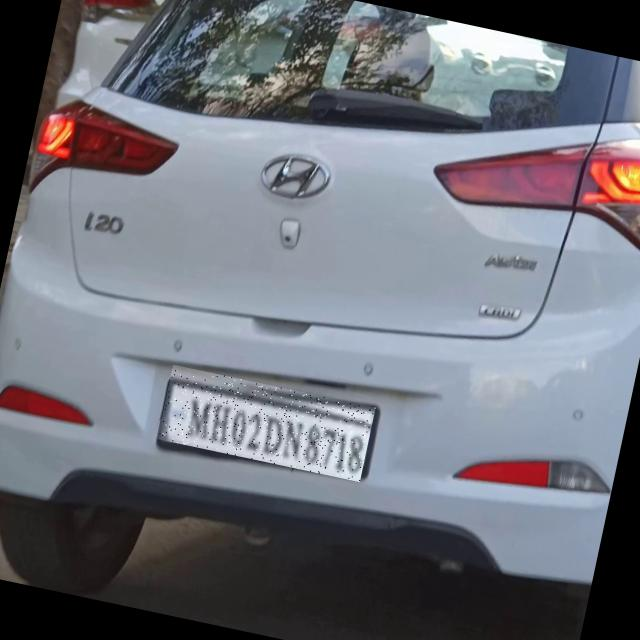Plate: (158, 366, 376, 483)
